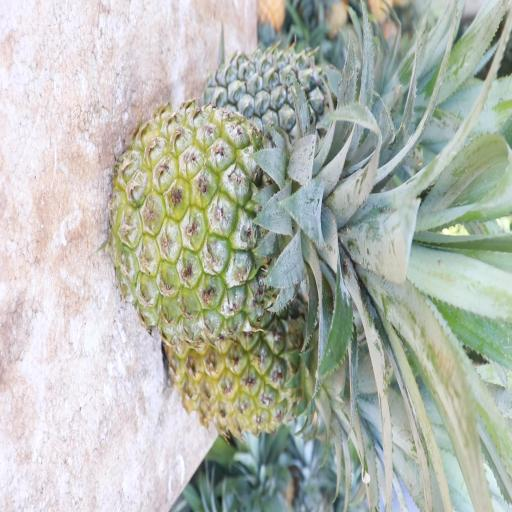------------------------------: (103, 98, 405, 350)
Pineapple - v8 v1: (159, 238, 394, 448)
